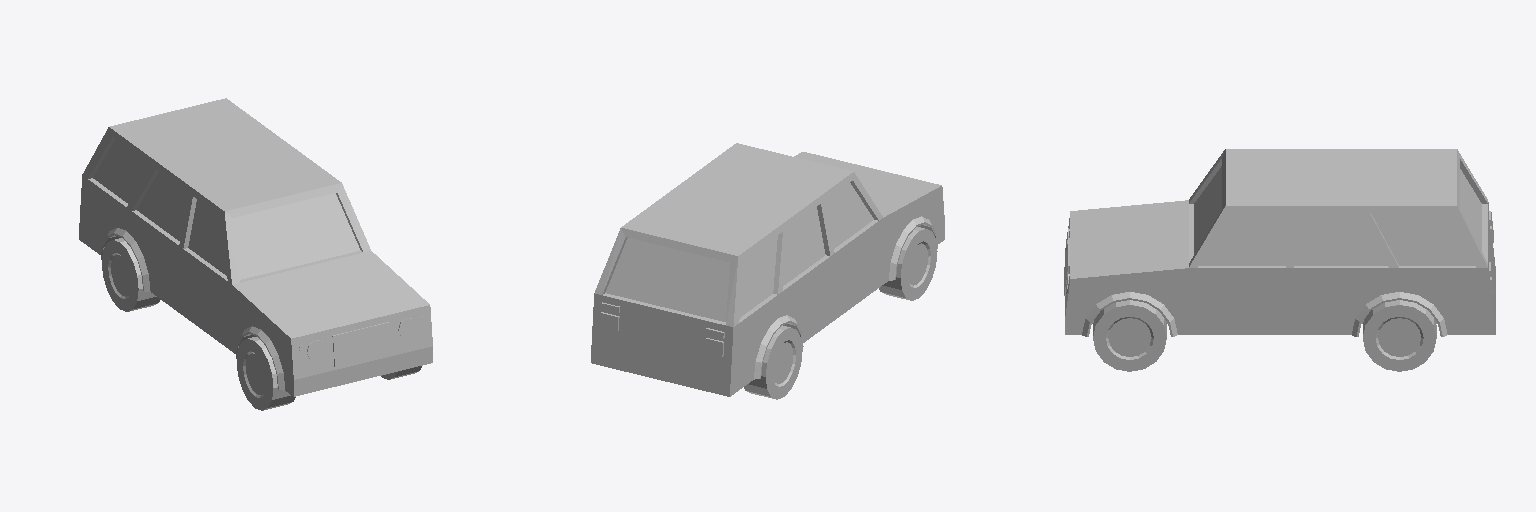
The model's file is car-station-green.obj.
The picture shows the model from 3 angles: view 1: azimuth 30°, elevation 25°; view 2: azimuth 150°, elevation 25°; view 3: azimuth 270°, elevation 25°; orthographic projection.
Parts seen in each view (by area): view 1: car-station-green_Cube.603; view 2: car-station-green_Cube.603; view 3: car-station-green_Cube.603.
Boxes of the visible parts, x1=… form: car-station-green_Cube.603: x1=79, y1=98, x2=432, y2=410; car-station-green_Cube.603: x1=591, y1=143, x2=944, y2=399; car-station-green_Cube.603: x1=1064, y1=149, x2=1495, y2=371.
Bounding box in the file's own units: 0.854 × 0.846 × 2.1.